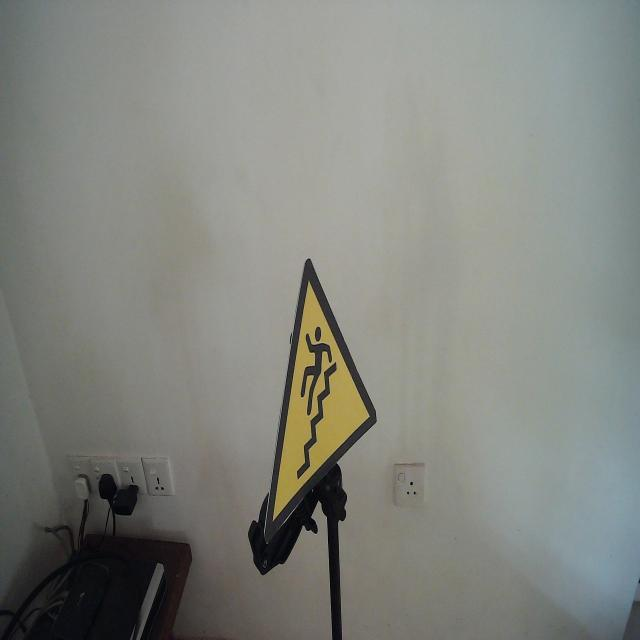stairs: (263, 256, 378, 548)
